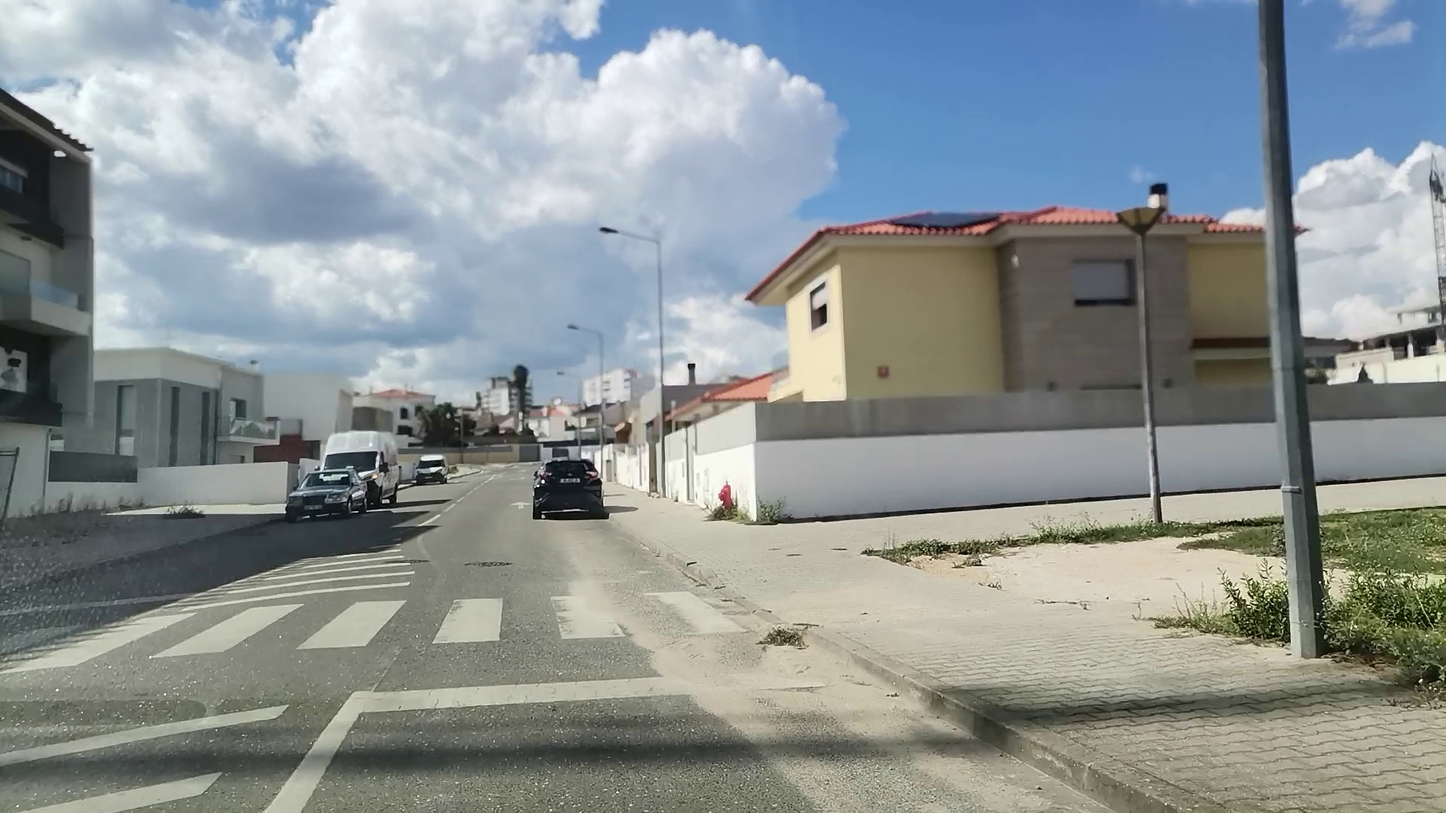Stairs: (0, 590, 747, 669)
